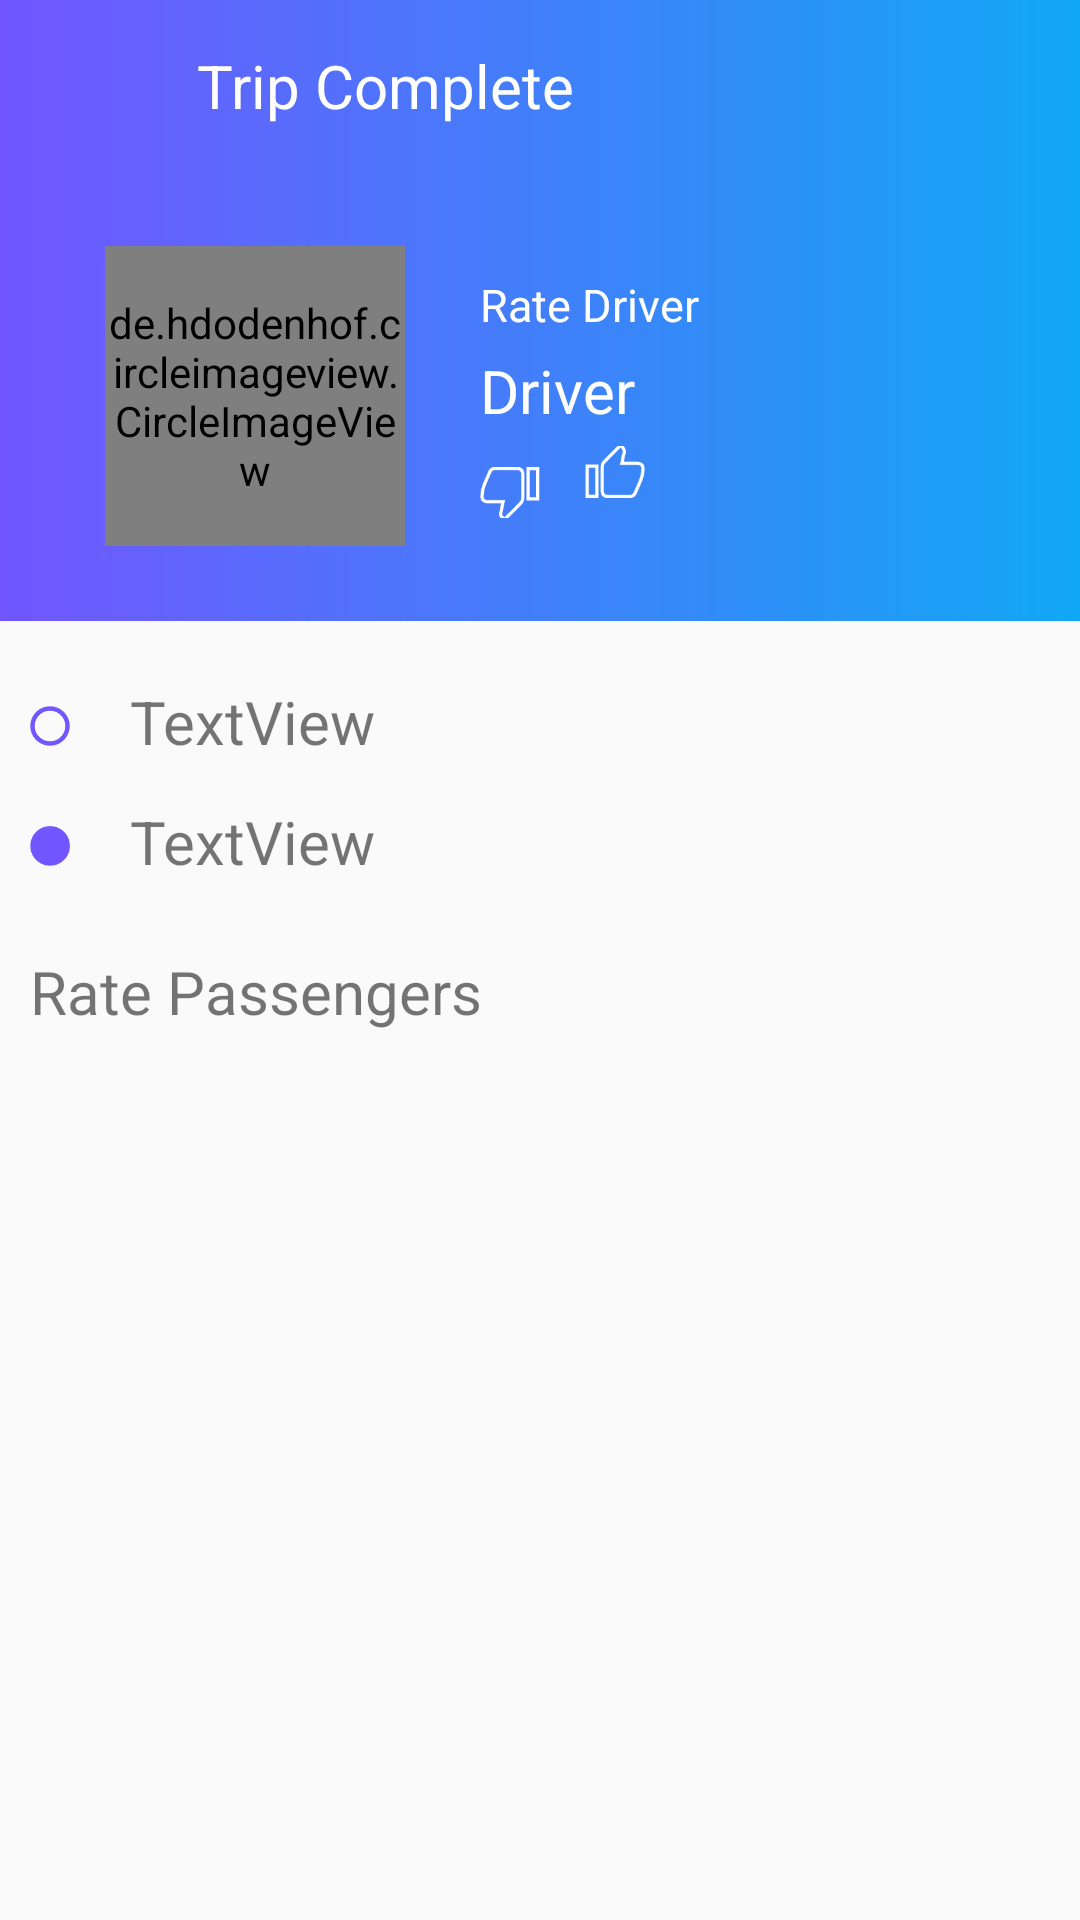

Named icons in this screenshot (1080x1920) and their centers, [x,y]:
thumb down: [510,492]
thumb up: [615,472]
